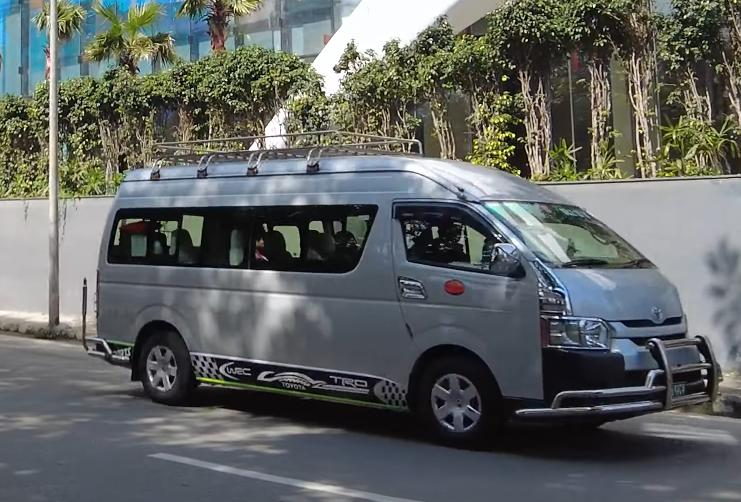micro_bus: (81, 148, 726, 456)
